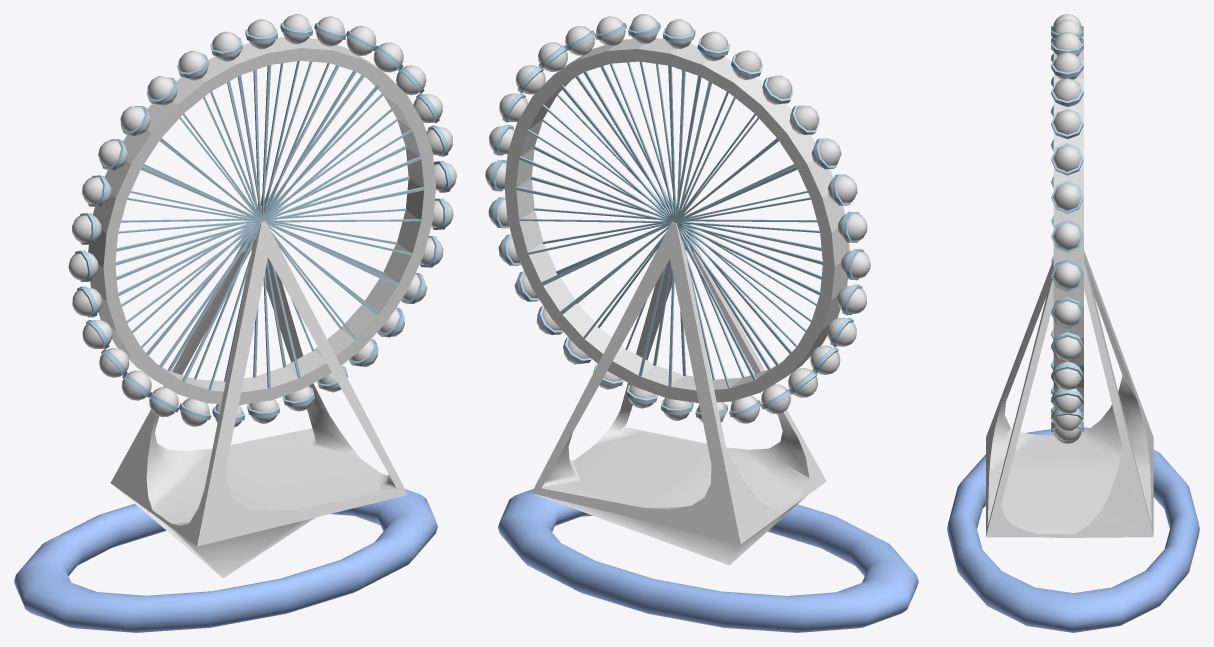
File: Koleso_obozreniya.fbx
The picture shows the model from 3 angles, left to right: view 1: azimuth 30°, elevation 25°; view 2: azimuth 150°, elevation 25°; view 3: azimuth 270°, elevation 25°; orthographic projection. The views are drawn at different scales.
Parts seen in each view (by area): view 1: Koleso, osnova, podstavka, Kabina_11, Kabina_12, Kabina_16, Kabina_09, Kabina_15, Kabina_13, Kabina_07, Kabina_10, Kabina_08 (+13 smaller); view 2: Koleso, osnova, podstavka, Kabina_11, Kabina_12, Kabina_15, Kabina_14, Kabina_13, Kabina_10, Kabina_07, Kabina_16, Kabina_04 (+13 smaller); view 3: osnova, podstavka, Koleso, Kabina_23, Kabina_21, Kabina_20, Kabina_22, Kabina_24, Kabina_19, Kabina_25, Kabina_18, Kabina_26 (+5 smaller).
Part boxes in pixels (left/top/right/bottom): Koleso: left=88, top=37, right=435, bottom=405; osnova: left=110, top=221, right=407, bottom=578; podstavka: left=14, top=489, right=437, bottom=632; Kabina_11: left=98, top=139, right=128, bottom=170; Kabina_12: left=120, top=106, right=150, bottom=135; Kabina_16: left=245, top=19, right=277, bottom=49; Kabina_09: left=72, top=213, right=101, bottom=244; Kabina_15: left=210, top=31, right=243, bottom=61; Kabina_13: left=146, top=76, right=177, bottom=105; Kabina_07: left=72, top=286, right=101, bottom=317; Kabina_10: left=82, top=175, right=111, bottom=206; Kabina_08: left=68, top=250, right=98, bottom=281; Koleso: left=504, top=38, right=849, bottom=403; osnova: left=531, top=222, right=826, bottom=565; podstavka: left=498, top=489, right=918, bottom=632; Kabina_11: left=811, top=138, right=841, bottom=169; Kabina_12: left=789, top=105, right=819, bottom=134; Kabina_15: left=697, top=31, right=729, bottom=61; Kabina_14: left=731, top=50, right=762, bottom=80; Kabina_13: left=762, top=75, right=793, bottom=104; Kabina_10: left=828, top=174, right=857, bottom=205; Kabina_07: left=837, top=284, right=866, bottom=315; Kabina_16: left=663, top=19, right=695, bottom=49; Kabina_04: left=788, top=368, right=817, bottom=397; osnova: left=986, top=250, right=1153, bottom=537; podstavka: left=947, top=427, right=1199, bottom=632; Koleso: left=1053, top=43, right=1083, bottom=414; Kabina_23: left=1051, top=259, right=1083, bottom=291; Kabina_21: left=1051, top=181, right=1083, bottom=213; Kabina_20: left=1051, top=143, right=1083, bottom=175; Kabina_22: left=1051, top=220, right=1083, bottom=252; Kabina_24: left=1051, top=297, right=1083, bottom=328; Kabina_19: left=1051, top=109, right=1083, bottom=138; Kabina_25: left=1051, top=332, right=1083, bottom=360; Kabina_18: left=1051, top=78, right=1083, bottom=107; Kabina_26: left=1051, top=361, right=1083, bottom=390.
Bounding box in the file's own units: 6.13 × 7.45 × 3.24.
